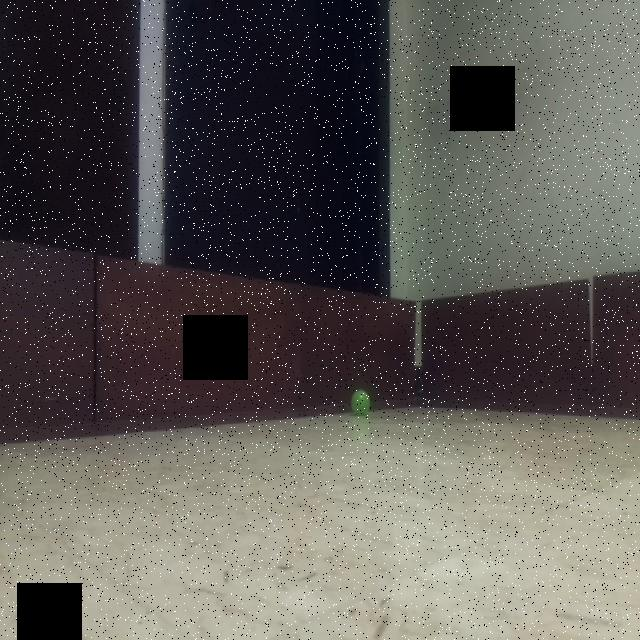ball: (349, 386, 374, 416)
